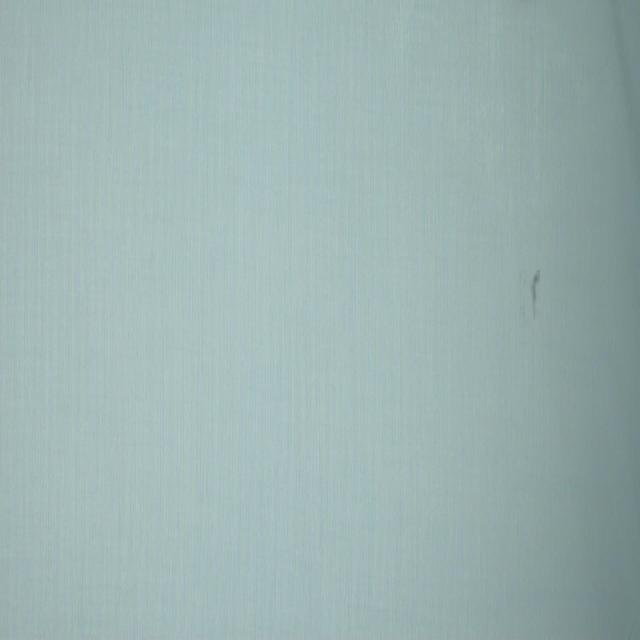dirty: (531, 270, 541, 320), (519, 303, 528, 316)
